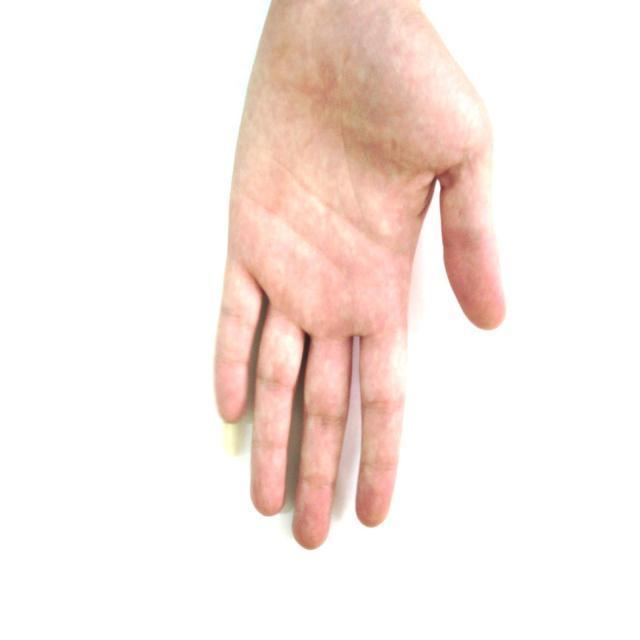hand: (213, 0, 507, 550)
